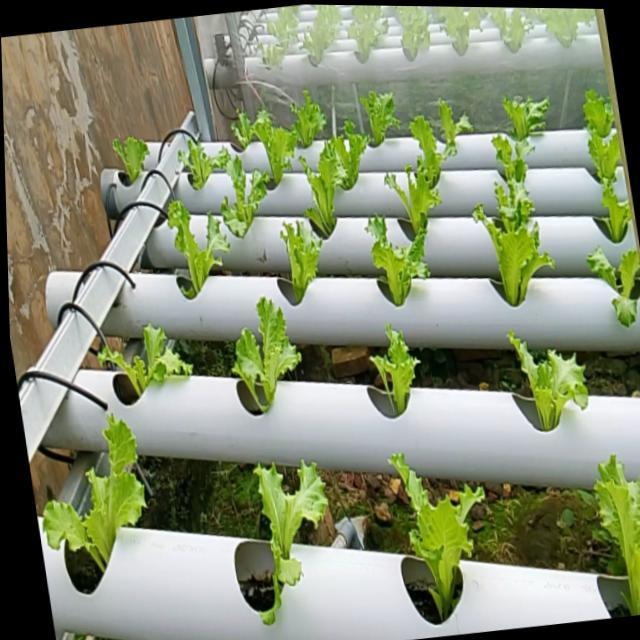Baby: (36, 410, 141, 568), (388, 450, 482, 619), (250, 460, 324, 622), (229, 291, 298, 407), (507, 329, 586, 429), (593, 454, 640, 616), (382, 136, 453, 238), (88, 316, 187, 388), (163, 195, 226, 294), (296, 135, 356, 237), (355, 82, 418, 172), (229, 106, 294, 183), (585, 246, 640, 326), (369, 321, 417, 411), (366, 215, 414, 304), (492, 152, 537, 246), (277, 217, 319, 301), (583, 99, 621, 184), (174, 131, 225, 187), (427, 98, 473, 159), (287, 88, 324, 147), (501, 96, 547, 141), (107, 130, 146, 174)
